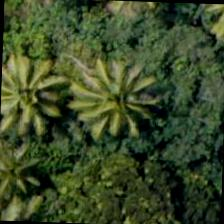Kelapa_Sawit: (80, 31, 174, 124), (0, 59, 63, 152)
